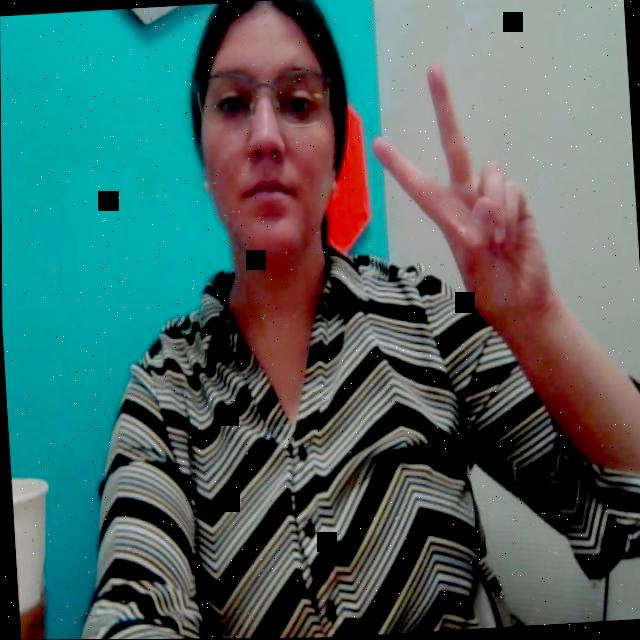Scissors: (375, 58, 556, 289)
